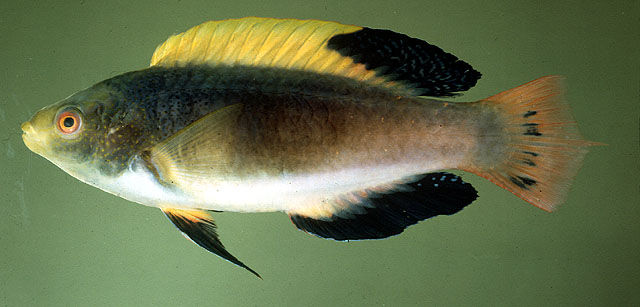fish: (21, 17, 610, 281)
